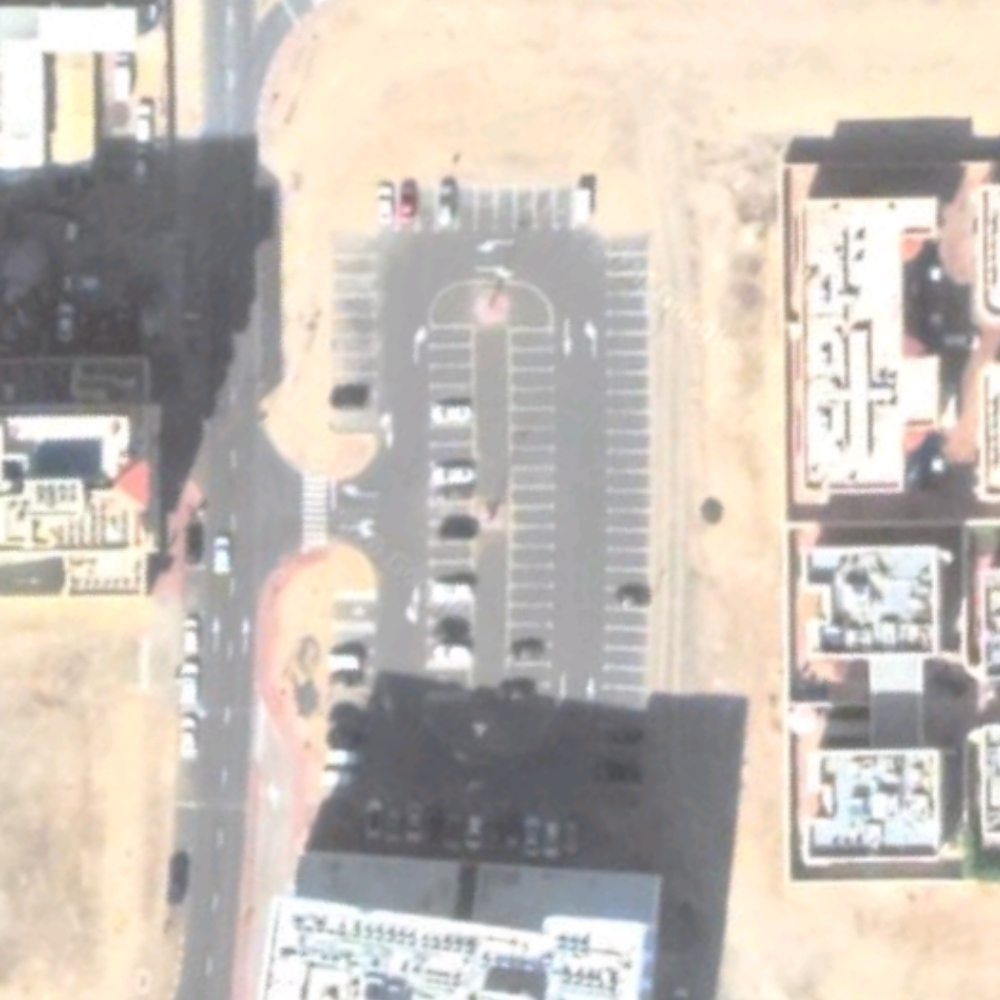parking: (335, 130, 640, 870)
